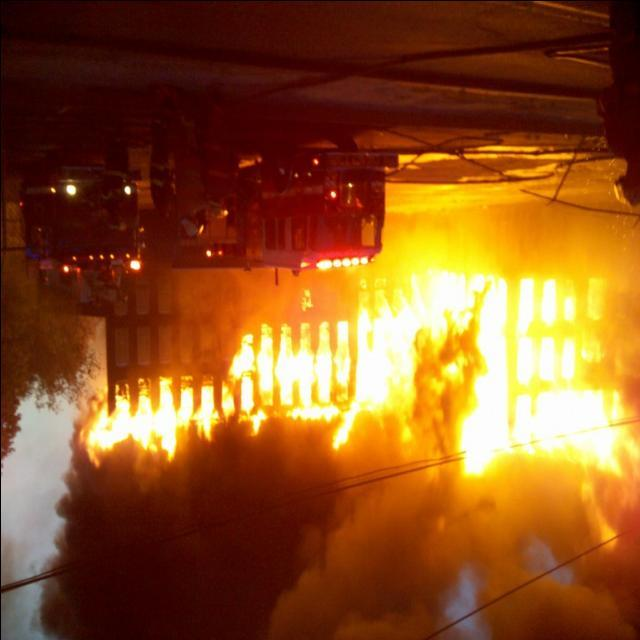Fire: (93, 282, 635, 479)
